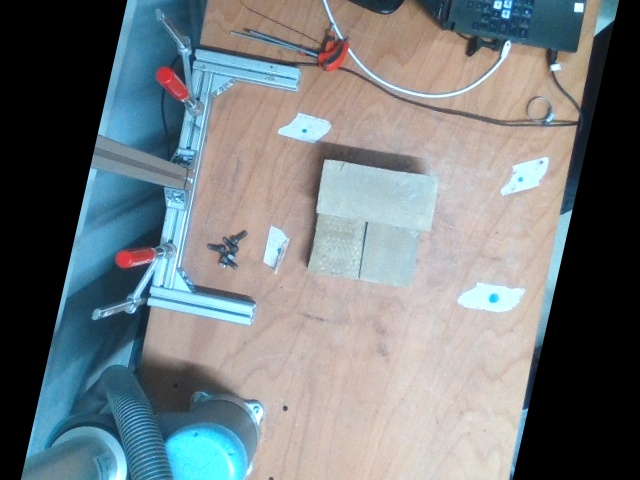brick: (319, 157, 439, 230)
